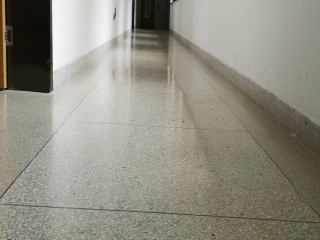room: (2, 2, 57, 96)
